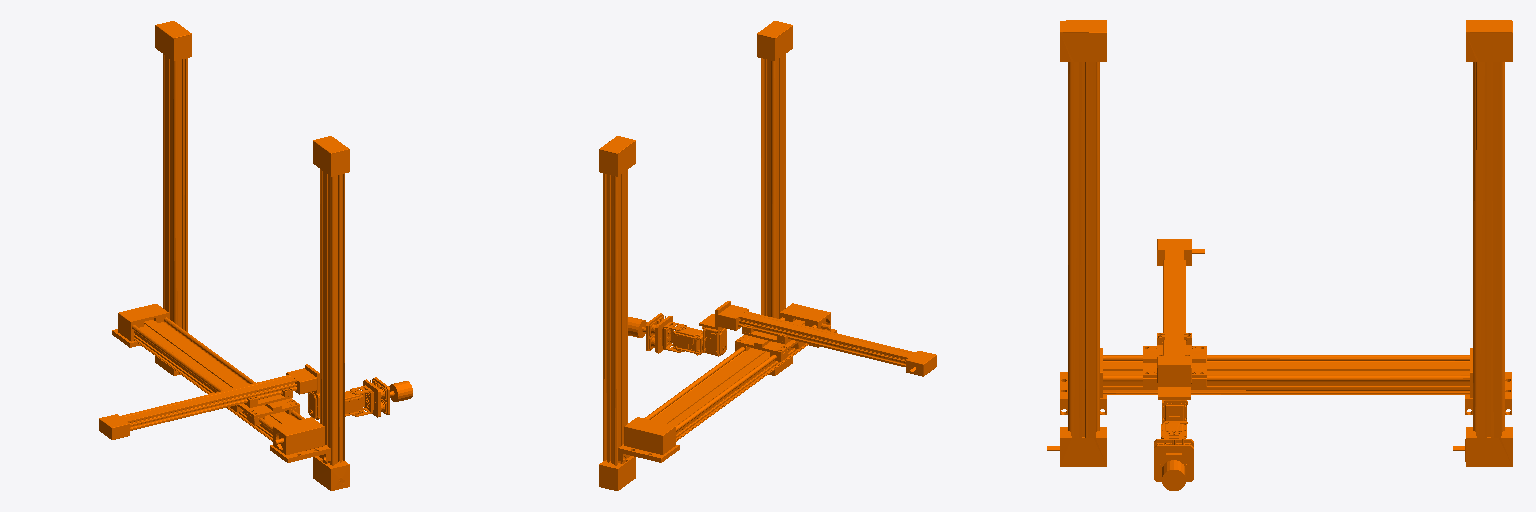
The robot description file, URDF, robot "cab":
<?xml version="1.0" ?>
<!-- ============================================ -->
<!-- @file cab_exp.urdf -->
<!-- -->
<!-- -->
<!-- @author [author], [email redacted] -->
<!-- @created 05-Feb-2017 -->
<!-- ============================================ -->
<robot name="cab" xmlns:xacro="http://www.ros.org/wiki/xacro">
    <material name="Orange">
        <color rgba="1.0 0.487 0 1.0"/>
    </material>

    <link name="world_frame"/>

    <joint name="world_base_joint" type="fixed">
        <origin rpy="0 0 0" xyz="0 0 0"/>
        <parent link="world_frame"/>
        <child link="cab_arm_0_link"/>
    </joint>
    <link name="cab_arm_0_link">
        <visual>
            <origin rpy="0 0 -1.570796326795" xyz="0 0 0"/>
            <geometry>
                <mesh filename="package://hardware/meshes/cab/link0.stl"/>
            </geometry>
            <material name="Orange"/>
        </visual>
    </link>

    <joint name="cab_arm_0_joint" type="prismatic">
        <origin rpy="0 0 0" xyz="-0.038 -0.0005 0.068"/>
        <axis xyz="0 0 1"/>
        <limit effort="204" lower="0.0" upper="0.42" velocity="0.06"/>
        <dynamics damping="1.0"/>
        <parent link="cab_arm_0_link"/>
        <child link="cab_arm_1_link"/>
    </joint>
    <link name="cab_arm_1_link">
        <visual>
            <origin rpy="0 0 -1.570796326795" xyz="0.038 -0.0005 -0.068"/>
            <geometry>
                <mesh filename="package://hardware/meshes/cab/link1.stl"/>
            </geometry>
            <material name="Orange"/>
        </visual>
    </link>

    <joint name="cab_arm_1_joint" type="prismatic">
        <origin rpy="0 0 0" xyz="-0.002794 0.08 0.073436"/>
        <axis xyz="0 1 0"/>
        <limit effort="204" lower="0.0" upper="0.374" velocity="0.06"/>
        <dynamics damping="1.0"/>
        <parent link="cab_arm_1_link"/>
        <child link="cab_arm_2_link"/>
    </joint>
    <link name="cab_arm_2_link">
        <visual>
            <origin rpy="0 0 0" xyz="0.041814 -0.030269 -0.141484"/>
            <geometry>
                <mesh filename="package://hardware/meshes/cab/link2.stl"/>
            </geometry>
            <material name="Orange"/>
        </visual>
    </link>

    <joint name="cab_arm_2_joint" type="prismatic">
        <origin rpy="0 0 0" xyz="0.011794 0.0728 0.036764"/>
        <axis xyz="1 0 0"/>
        <limit effort="204" lower="0.0" upper="0.165" velocity="0.06"/>
        <dynamics damping="1.0"/>
        <parent link="cab_arm_2_link"/>
        <child link="cab_arm_3_link"/>
    </joint>
    <link name="cab_arm_3_link">
        <visual>
            <origin rpy="0 0 0" xyz="0.03002 -0.103069 -0.178249"/>
            <geometry>
                <mesh filename="package://hardware/meshes/cab/link3.stl"/>
            </geometry>
            <material name="Orange"/>
        </visual>
    </link>

    <joint name="cab_arm_3_joint" type="revolute">
        <origin rpy="0 0 0" xyz="0.08955 0.026 -0.08675"/>
        <axis xyz="1 0 0"/>
        <limit effort="204" lower="-1.5707963267948966" upper="1.5707963267948966" velocity="5.0"/>
        <dynamics damping="1.0"/>
        <parent link="cab_arm_3_link"/>
        <child link="cab_arm_4_link"/>
    </joint>
    <link name="cab_arm_4_link">
        <visual>
            <origin rpy="0 0 0" xyz="-0.05953 -0.130069 -0.091449"/>
            <geometry>
                <mesh filename="package://hardware/meshes/cab/link4.stl"/>
            </geometry>
            <material name="Orange"/>
        </visual>
    </link>

    <joint name="cab_arm_4_joint" type="revolute">
        <origin rpy="0 0 0" xyz="0.0518 0.0 0.022"/>
        <axis xyz="0 0 -1"/>
        <limit effort="204" lower="-1.5707963267948966" upper="1.5707963267948966" velocity="5.0"/>
        <dynamics damping="1.0"/>
        <parent link="cab_arm_4_link"/>
        <child link="cab_arm_5_link"/>
    </joint>
    <link name="cab_arm_5_link">
        <visual>
            <origin rpy="0 0 0" xyz="-0.11133 -0.144069 -0.113499"/>
            <geometry>
                <mesh filename="package://hardware/meshes/cab/link5.stl"/>
            </geometry>
            <material name="Orange"/>
        </visual>
    </link>

  <joint name="force_torque_sensor_mount" type="fixed">
	<origin rpy="1.5708 0 1.5708" xyz="0.066 0.0 -0.0238"/>
    
    <parent link="cab_arm_5_link"/>
    <child link="force_torque_sensor"/>
  </joint>
    <link name="force_torque_sensor">
    </link>

    <joint name="cab_arm_5_joint" type="revolute">
        <origin rpy="0 0 0" xyz="0 0 0.070"/>
<!--
        <origin rpy="0 0 0" xyz="0.11463 0.0 -0.02279"/>
-->
        <axis xyz="0 0 1"/>
        <limit effort="204" lower="0.0" upper="0.42" velocity="1.91986217719"/>
        <parent link="force_torque_sensor"/>
        <child link="contact_point"/>
    </joint>
    <link name="contact_point">
    </link>




</robot>

--- Render facts (derived) ---
3 views of the same robot in one strip: view 1: azimuth 30°, elevation 25°; view 2: azimuth 150°, elevation 25°; view 3: azimuth 270°, elevation 25° (orthographic).
Robot: cab — 9 links, 8 joints (3 revolute, 3 prismatic, 2 fixed); root link world_frame; default pose: every joint at zero.
Visible links, largest first — view 1: cab_arm_0_link, cab_arm_1_link, cab_arm_3_link, cab_arm_5_link, cab_arm_2_link; view 2: cab_arm_0_link, cab_arm_1_link, cab_arm_3_link, cab_arm_5_link, cab_arm_2_link, cab_arm_4_link; view 3: cab_arm_0_link, cab_arm_1_link, cab_arm_3_link, cab_arm_5_link, cab_arm_2_link.
Link boxes in pixels (left/top/right/bottom): cab_arm_0_link: left=155, top=21, right=349, bottom=490; cab_arm_1_link: left=112, top=304, right=330, bottom=462; cab_arm_3_link: left=99, top=364, right=319, bottom=439; cab_arm_5_link: left=350, top=377, right=412, bottom=417; cab_arm_2_link: left=230, top=388, right=299, bottom=425; cab_arm_0_link: left=599, top=21, right=792, bottom=490; cab_arm_1_link: left=618, top=303, right=836, bottom=462; cab_arm_3_link: left=699, top=301, right=936, bottom=376; cab_arm_5_link: left=628, top=313, right=686, bottom=353; cab_arm_2_link: left=735, top=324, right=805, bottom=361; cab_arm_4_link: left=673, top=327, right=702, bottom=355; cab_arm_0_link: left=1047, top=20, right=1512, bottom=466; cab_arm_1_link: left=1060, top=348, right=1511, bottom=414; cab_arm_3_link: left=1157, top=239, right=1204, bottom=423; cab_arm_5_link: left=1154, top=431, right=1193, bottom=490; cab_arm_2_link: left=1143, top=333, right=1206, bottom=387.
Bounding box of the posed robot: 0.7053 × 0.7289 × 0.752 m (x, y, z).
6 mesh visuals loaded from 6 distinct referenced files (6 binary STL).